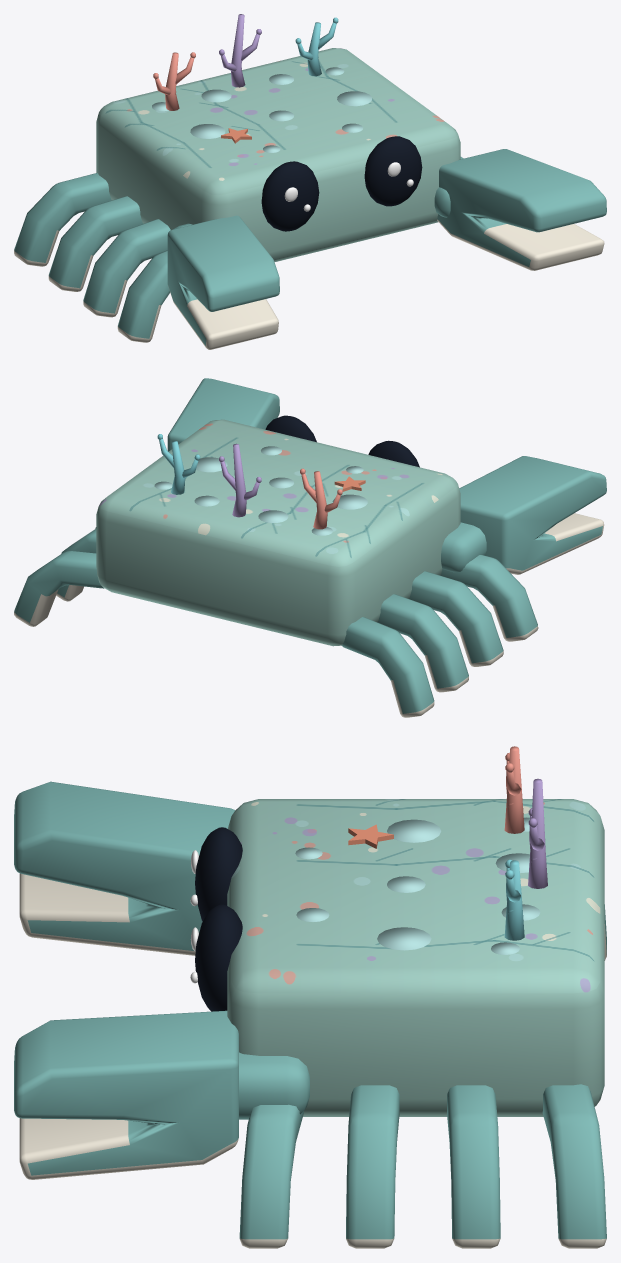
File: CoralReefCrab.fbx
3 views of the same model, one above another, from view 1: azimuth 30°, elevation 25°; view 2: azimuth 150°, elevation 25°; view 3: azimuth 270°, elevation 25° (orthographic). The views are drawn at different scales.
Visible parts, largest first — view 1: CoralReefCrab_Body, CoralReefCrab, CoralReefCrab_Claw_R, CoralReefCrab_Claw_L, CoralReefCrab_Eye_R, CoralReefCrab_Eye_L; view 2: CoralReefCrab_Body, CoralReefCrab, CoralReefCrab_Claw_L, CoralReefCrab_Claw_R, CoralReefCrab_Arm_L, CoralReefCrab_Eye_R, CoralReefCrab_Eye_L; view 3: CoralReefCrab_Body, CoralReefCrab, CoralReefCrab_Claw_R, CoralReefCrab_Claw_L, CoralReefCrab_Arm_R, CoralReefCrab_Eye_R, CoralReefCrab_Eye_L.
Part boxes in pixels (x1,y1,x2,y2): CoralReefCrab_Body: [96, 14, 460, 261]; CoralReefCrab: [14, 67, 463, 342]; CoralReefCrab_Claw_R: [437, 149, 606, 270]; CoralReefCrab_Claw_L: [167, 215, 279, 349]; CoralReefCrab_Eye_R: [364, 136, 422, 206]; CoralReefCrab_Eye_L: [261, 161, 319, 231]; CoralReefCrab_Body: [96, 419, 460, 646]; CoralReefCrab: [14, 446, 538, 717]; CoralReefCrab_Claw_L: [459, 456, 606, 574]; CoralReefCrab_Claw_R: [167, 378, 279, 451]; CoralReefCrab_Arm_L: [441, 522, 486, 572]; CoralReefCrab_Eye_R: [265, 415, 316, 442]; CoralReefCrab_Eye_L: [368, 440, 419, 467]; CoralReefCrab_Body: [227, 746, 604, 1116]; CoralReefCrab: [239, 817, 606, 1248]; CoralReefCrab_Claw_R: [14, 1010, 238, 1179]; CoralReefCrab_Claw_L: [14, 781, 235, 955]; CoralReefCrab_Arm_R: [239, 1052, 309, 1119]; CoralReefCrab_Eye_R: [195, 904, 242, 1011]; CoralReefCrab_Eye_L: [195, 827, 242, 921].
Size of the model in its own units: 374 by 185 by 305.
Materials: 2 (2 with a texture image).
